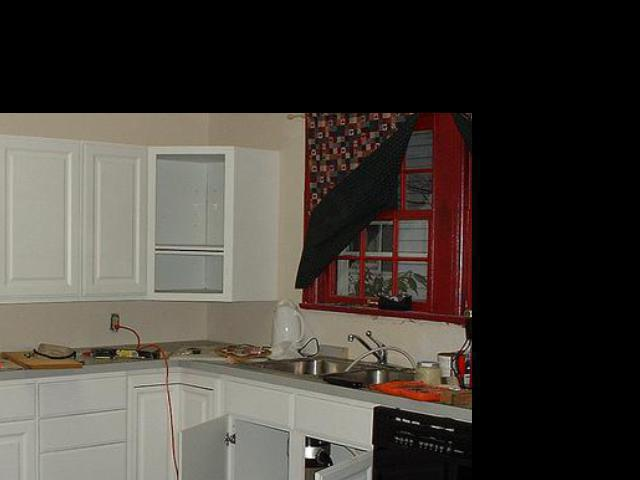Lavaplatos: (247, 318, 425, 403)
